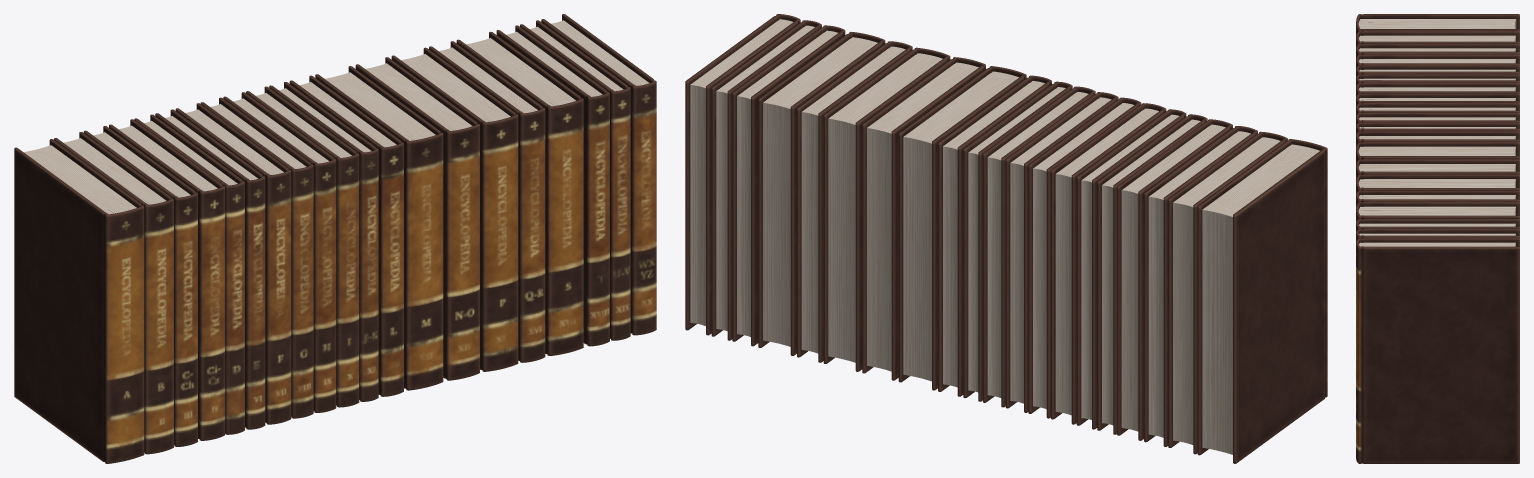
Rendered from book_encyclopedia_set_01_2k.fbx.
The picture shows the model from 3 angles, left to right: view 1: azimuth 30°, elevation 25°; view 2: azimuth 150°, elevation 25°; view 3: azimuth 270°, elevation 25°; orthographic projection. The views are drawn at different scales.
Parts seen in each view (by area): view 1: book_encyclopedia_set_01_book01, book_encyclopedia_set_01_book13, book_encyclopedia_set_01_book15, book_encyclopedia_set_01_book17, book_encyclopedia_set_01_book14, book_encyclopedia_set_01_book02, book_encyclopedia_set_01_book16, book_encyclopedia_set_01_book04, book_encyclopedia_set_01_book18, book_encyclopedia_set_01_book20, book_encyclopedia_set_01_book07, book_encyclopedia_set_01_book12 (+8 smaller); view 2: book_encyclopedia_set_01_book01, book_encyclopedia_set_01_book13, book_encyclopedia_set_01_book15, book_encyclopedia_set_01_book17, book_encyclopedia_set_01_book14, book_encyclopedia_set_01_book02, book_encyclopedia_set_01_book04, book_encyclopedia_set_01_book16, book_encyclopedia_set_01_book18, book_encyclopedia_set_01_book20, book_encyclopedia_set_01_book07, book_encyclopedia_set_01_book12 (+8 smaller); view 3: book_encyclopedia_set_01_book20, book_encyclopedia_set_01_book13, book_encyclopedia_set_01_book01, book_encyclopedia_set_01_book17, book_encyclopedia_set_01_book15, book_encyclopedia_set_01_book14, book_encyclopedia_set_01_book02, book_encyclopedia_set_01_book16, book_encyclopedia_set_01_book03, book_encyclopedia_set_01_book12, book_encyclopedia_set_01_book07, book_encyclopedia_set_01_book04 (+8 smaller).
Part boxes in pixels (x1,y1,x2,y2): book_encyclopedia_set_01_book01: [14, 139, 144, 463]; book_encyclopedia_set_01_book13: [315, 66, 443, 390]; book_encyclopedia_set_01_book15: [391, 47, 518, 371]; book_encyclopedia_set_01_book17: [456, 31, 583, 355]; book_encyclopedia_set_01_book14: [355, 57, 479, 380]; book_encyclopedia_set_01_book02: [54, 132, 173, 454]; book_encyclopedia_set_01_book16: [429, 41, 545, 362]; book_encyclopedia_set_01_book04: [109, 119, 224, 440]; book_encyclopedia_set_01_book18: [496, 25, 609, 346]; book_encyclopedia_set_01_book20: [541, 14, 656, 335]; book_encyclopedia_set_01_book07: [175, 103, 291, 424]; book_encyclopedia_set_01_book12: [289, 75, 403, 396]; book_encyclopedia_set_01_book01: [1197, 139, 1327, 463]; book_encyclopedia_set_01_book13: [898, 66, 1026, 390]; book_encyclopedia_set_01_book15: [823, 47, 950, 371]; book_encyclopedia_set_01_book17: [758, 32, 885, 355]; book_encyclopedia_set_01_book14: [862, 57, 985, 380]; book_encyclopedia_set_01_book02: [1168, 131, 1287, 454]; book_encyclopedia_set_01_book04: [1117, 119, 1232, 440]; book_encyclopedia_set_01_book16: [797, 41, 912, 362]; book_encyclopedia_set_01_book18: [732, 25, 845, 346]; book_encyclopedia_set_01_book20: [685, 14, 800, 335]; book_encyclopedia_set_01_book07: [1051, 103, 1166, 424]; book_encyclopedia_set_01_book12: [938, 75, 1051, 396]; book_encyclopedia_set_01_book20: [1356, 238, 1519, 463]; book_encyclopedia_set_01_book13: [1356, 142, 1519, 164]; book_encyclopedia_set_01_book01: [1356, 14, 1519, 35]; book_encyclopedia_set_01_book17: [1356, 202, 1519, 222]; book_encyclopedia_set_01_book15: [1356, 174, 1519, 194]; book_encyclopedia_set_01_book14: [1356, 159, 1519, 180]; book_encyclopedia_set_01_book02: [1356, 30, 1519, 47]; book_encyclopedia_set_01_book16: [1356, 190, 1519, 208]; book_encyclopedia_set_01_book03: [1356, 43, 1519, 58]; book_encyclopedia_set_01_book12: [1356, 131, 1519, 148]; book_encyclopedia_set_01_book07: [1356, 82, 1519, 96]; book_encyclopedia_set_01_book04: [1356, 54, 1519, 68].
Bounding box in the file's own units: 55.13 × 23.74 × 16.31.
